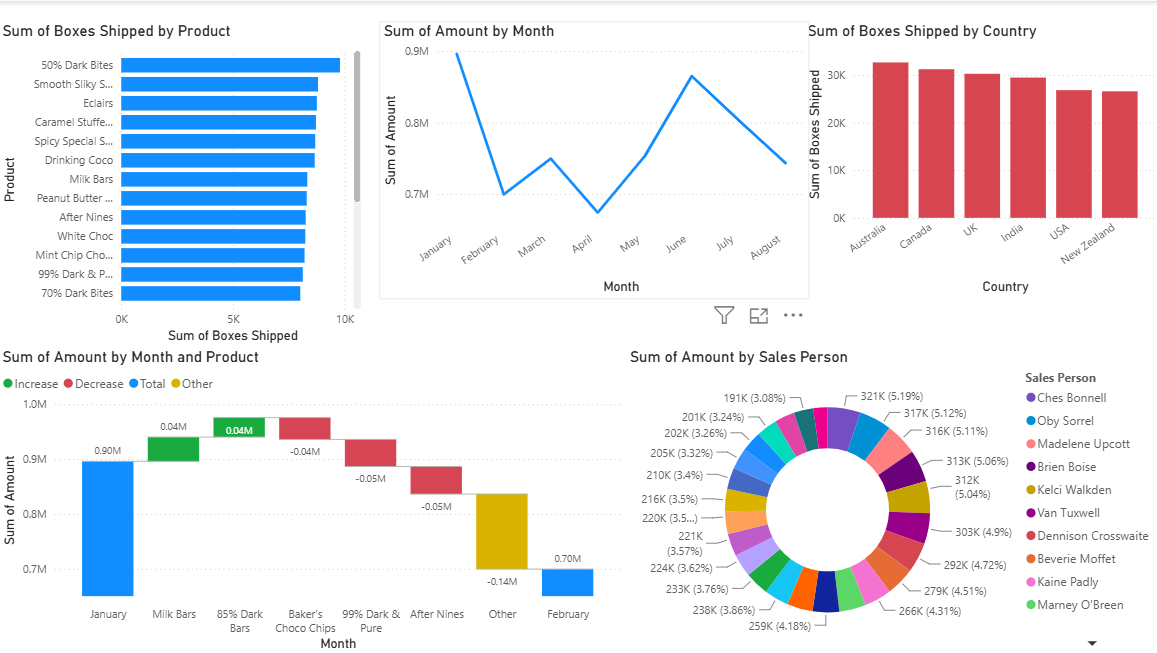

This screenshot's page, from the dashboard's own definition file:
{"tool":"powerbi","page":{"name":"Page 1","canvas":[1280,720],"ordinal":0},"visuals":[{"type":"columnChart","fields":{"Category":["data.Country"],"Y":["Sum(data.Boxes Shipped)"]},"box":[885.6,23.4,394.7,305.3],"z":0},{"type":"barChart","fields":{"Category":["data.Product"],"Y":["Sum(data.Boxes Shipped)"]},"box":[0,23.2,404.5,359.6],"z":1000},{"type":"lineChart","fields":{"Y":["Sum(data.Amount)"],"Category":["data.Date.Variation.Date Hierarchy.Month"]},"box":[419.4,23.4,473.1,305.3],"z":2000},{"type":"waterfallChart","fields":{"Category":["data.Date.Variation.Date Hierarchy.Month"],"Breakdown":["data.Product"],"Y":["Sum(data.Amount)"]},"box":[0,382.3,690.3,338.3],"z":3000},{"type":"donutChart","fields":{"Category":["data.Sales Person"],"Y":["Sum(data.Amount)"]},"box":[690.3,382.3,589.9,338.3],"z":3001}]}

Visuals, with their boxes in screenshot pixels (x1, y1, x2, y2), scaled from the page's 1280x720 canvas onto the 1157x653 screenshot:
columnChart - data.Country x Sum(data.Boxes Shipped): 800, 21, 1156, 298
barChart - data.Product x Sum(data.Boxes Shipped): 0, 21, 366, 347
lineChart - Sum(data.Amount) x data.Date.Variation.Date Hierarchy.Month: 379, 21, 807, 298
waterfallChart - data.Date.Variation.Date Hierarchy.Month x data.Product: 0, 347, 624, 652
donutChart - data.Sales Person x Sum(data.Amount): 624, 347, 1156, 652
